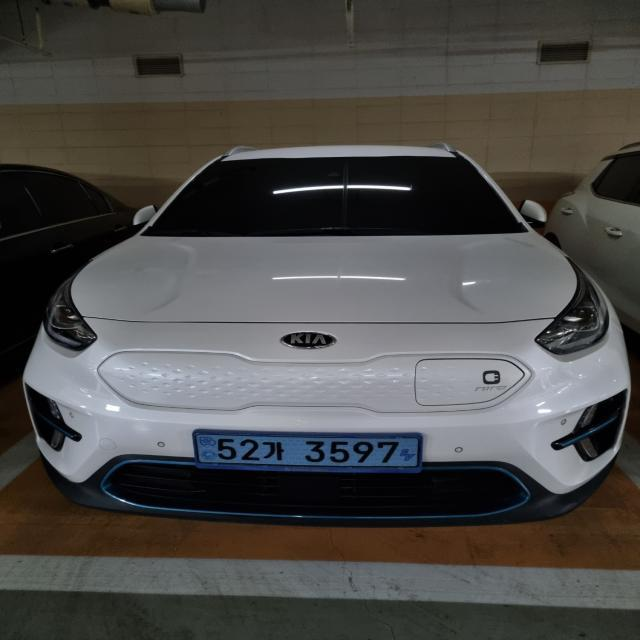car: (178, 422, 445, 484)
carev: (192, 429, 219, 469), (396, 430, 420, 473)
